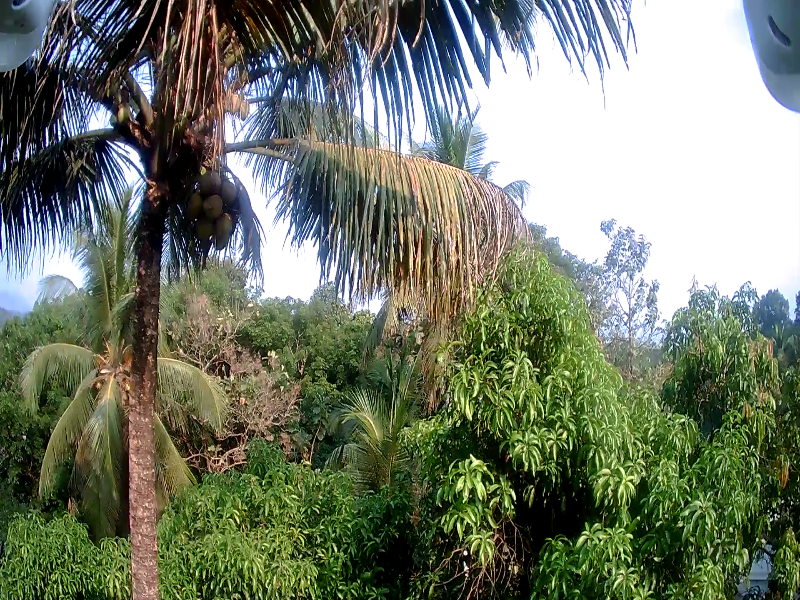coconut: (110, 102, 131, 131), (204, 198, 223, 219), (201, 171, 221, 190), (219, 181, 235, 204), (190, 194, 208, 213), (208, 229, 235, 240), (215, 210, 227, 232), (235, 103, 248, 121), (223, 94, 235, 113)
